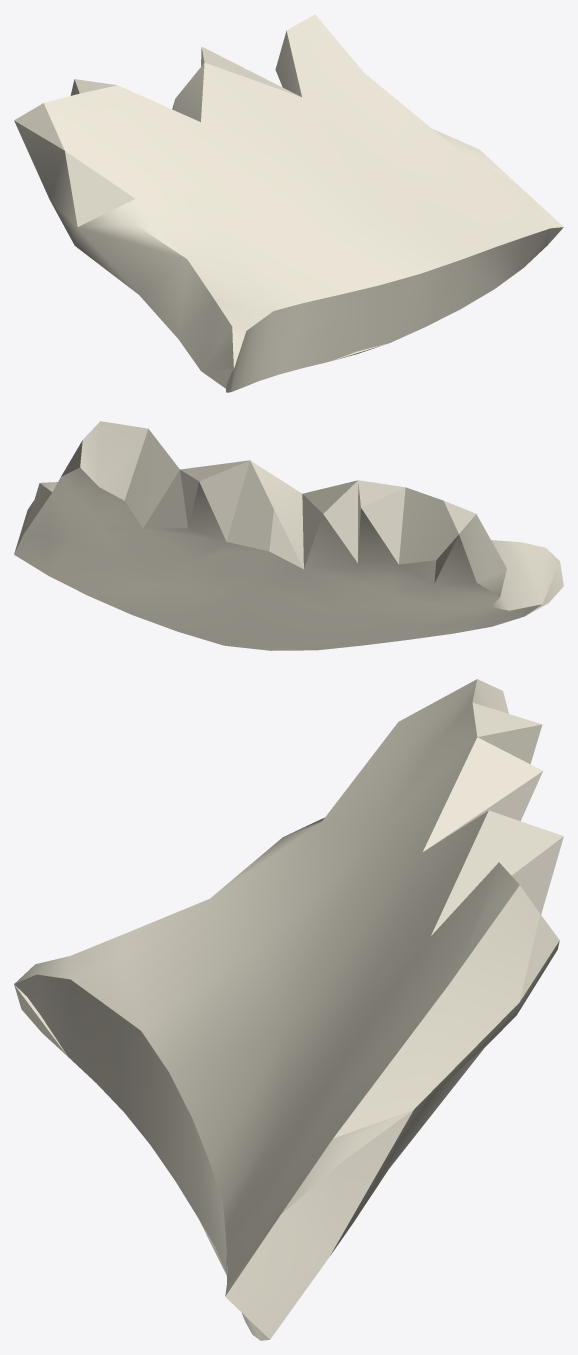
File: fma44259_mm1384.glb
The picture shows the model from 3 angles, top to bottom: view 1: azimuth 30°, elevation 25°; view 2: azimuth 150°, elevation 25°; view 3: azimuth 270°, elevation 25°; orthographic projection. The views are drawn at different scales.
Visible parts, largest first — view 1: FMA44259_MM1384; view 2: FMA44259_MM1384; view 3: FMA44259_MM1384.
Boxes of the visible parts, bbox=[...] form: FMA44259_MM1384: bbox=[14, 14, 563, 392]; FMA44259_MM1384: bbox=[14, 421, 563, 650]; FMA44259_MM1384: bbox=[14, 679, 563, 1340].
Bounding box in the file's own units: 0.013 × 0.00692 × 0.00842.
